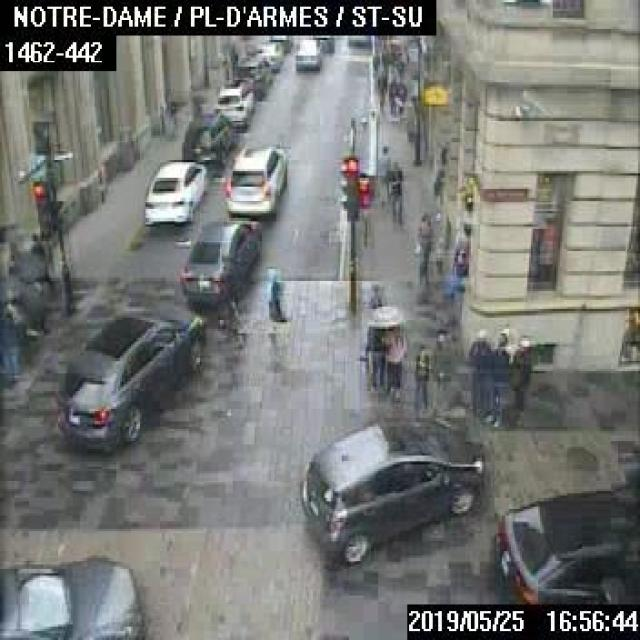pedestrian: (369, 304, 405, 399), (438, 224, 466, 304), (511, 329, 531, 427), (491, 328, 510, 426), (262, 262, 287, 336), (364, 323, 384, 390), (431, 329, 453, 389), (414, 213, 432, 284), (411, 342, 427, 409), (387, 160, 402, 223), (376, 144, 390, 204), (376, 67, 387, 108), (395, 76, 406, 114), (387, 74, 396, 112)
vehicle: (298, 411, 486, 560), (49, 306, 201, 446), (489, 482, 638, 602), (0, 549, 144, 638), (174, 219, 262, 308), (224, 142, 287, 218), (143, 156, 206, 223), (180, 107, 234, 164), (213, 81, 255, 129), (233, 58, 264, 94), (293, 38, 321, 66), (310, 33, 333, 52), (614, 476, 626, 482)
